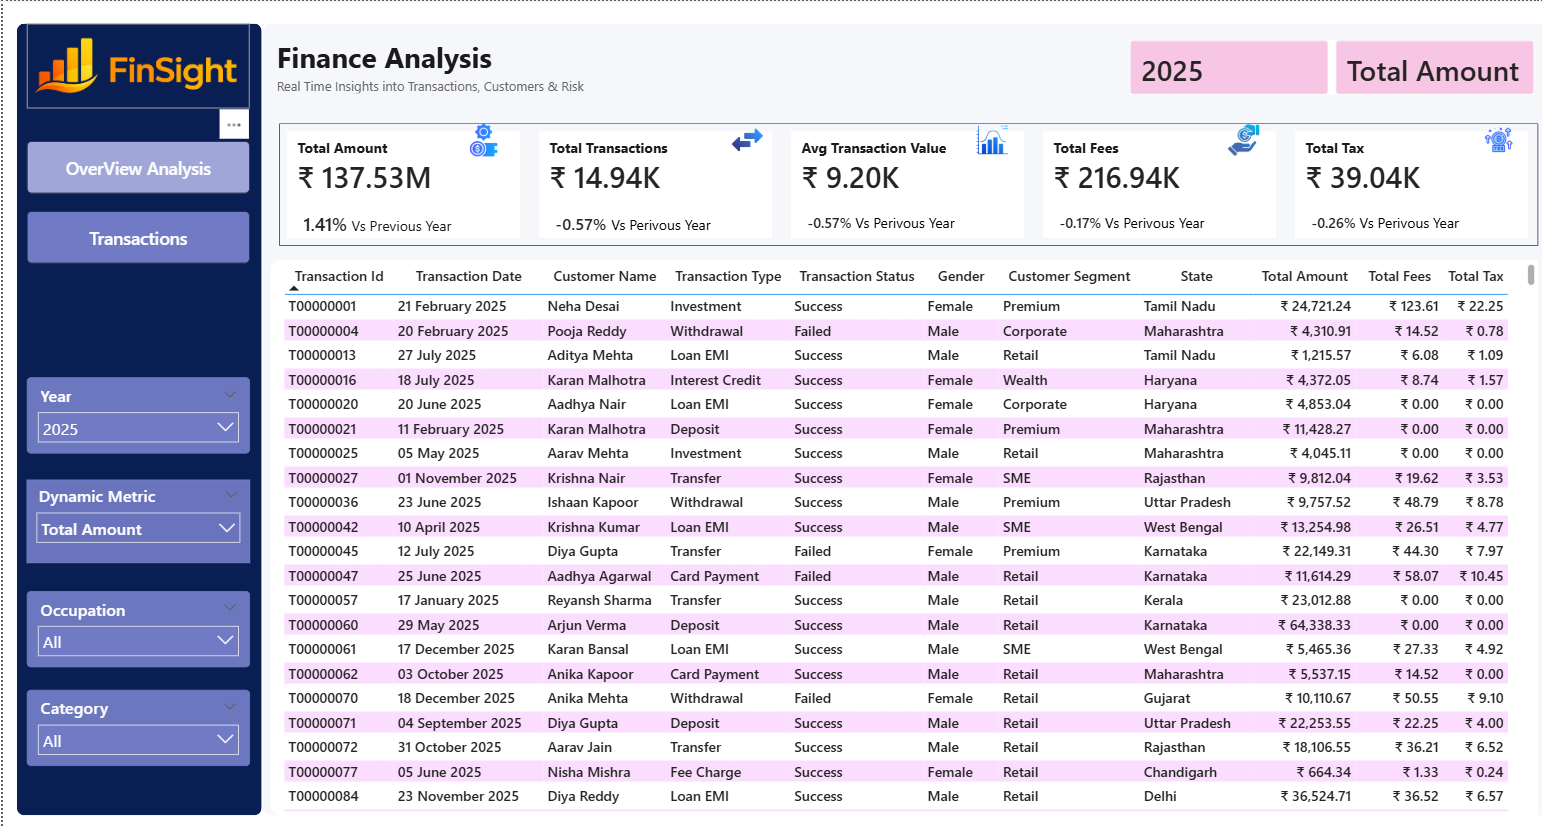

The dashboard page shown, as its layout file describes it:
{"tool":"powerbi","page":{"name":"Transactions","canvas":[1800,950],"ordinal":1},"visuals":[{"type":"shape","box":[15,25,280,905],"z":0},{"type":"shape","box":[297.5,25,1502.5,905],"z":1000},{"type":"image","box":[27.5,25,255,97.5],"z":2000},{"type":"cardVisual","fields":{"Data":["finance_transactions.Dashboard Title"]},"box":[295.3,25,510.6,97.6],"z":3000},{"type":"cardVisual","fields":{"Data":["finance_transactions.Total Amount","finance_transactions.Total Transactions","finance_transactions.Avg Transaction Value","finance_transactions.Total Fees","finance_transactions.Total Tax"]},"box":[315,140,1440,140],"z":4000},{"type":"image","box":[1395,140,47.5,37.5],"z":5000},{"type":"image","box":[827.5,140,47.5,37.5],"z":6000},{"type":"image","box":[525,140,47.5,37.5],"z":7000},{"type":"image","box":[1107.5,140,47.5,37.5],"z":8000},{"type":"image","box":[1685,140,47.5,37.5],"z":9000},{"type":"shape","box":[305,295,1450,635],"z":10000},{"type":"cardVisual","fields":{"Data":["finance_transactions.Selected Year","finance_transactions.Selected Dynamic Measure"]},"box":[1282.5,40,472.5,72.5],"z":11000},{"type":"tableEx","fields":{"Values":["finance_transactions.transaction_id","finance_transactions.transaction_date","customers.customer name","finance_transactions.transaction_type","finance_transactions.transaction_status","customers.gender","customers.customer_segment","customers.state","finance_transactions.Total Amount","finance_transactions.Total Fees","finance_transactions.Total Tax"]},"box":[315,295,1440,635],"z":12000},{"type":"slicer","fields":{"Values":["Calendar Table.Year"]},"box":[27.5,430.5,255.3,87.6],"z":13000},{"type":"slicer","fields":{"Values":["Dynamic Metric.Dynamic Metric"]},"box":[27.5,547.5,255,95],"z":14000},{"type":"slicer","fields":{"Values":["customers.occupation"]},"box":[27.5,675,255,87.5],"z":15000},{"type":"slicer","fields":{"Values":["finance_transactions.merchant_category"]},"box":[27.5,787.5,255,87.5],"z":16000},{"type":"pageNavigator","box":[27.5,160,255,140],"z":17000}]}

Visuals, with their boxes on the page's 1800x950 design canvas (x1, y1, x2, y2). These are canvas units, not pixel positions in the 1542x826 screenshot, which may show the page scaled, cropped or inside an application window:
shape: locate(15, 25, 295, 930)
shape: locate(298, 25, 1800, 930)
image: locate(28, 25, 282, 122)
cardVisual - finance_transactions.Dashboard Title: locate(295, 25, 806, 123)
cardVisual - finance_transactions.Total Amount x finance_transactions.Total Transactions: locate(315, 140, 1755, 280)
image: locate(1395, 140, 1442, 178)
image: locate(828, 140, 875, 178)
image: locate(525, 140, 572, 178)
image: locate(1108, 140, 1155, 178)
image: locate(1685, 140, 1732, 178)
shape: locate(305, 295, 1755, 930)
cardVisual - finance_transactions.Selected Year x finance_transactions.Selected Dynamic Measure: locate(1282, 40, 1755, 112)
tableEx - finance_transactions.transaction_id x finance_transactions.transaction_date: locate(315, 295, 1755, 930)
slicer - Calendar Table.Year: locate(28, 430, 283, 518)
slicer - Dynamic Metric.Dynamic Metric: locate(28, 548, 282, 642)
slicer - customers.occupation: locate(28, 675, 282, 762)
slicer - finance_transactions.merchant_category: locate(28, 788, 282, 875)
pageNavigator: locate(28, 160, 282, 300)
